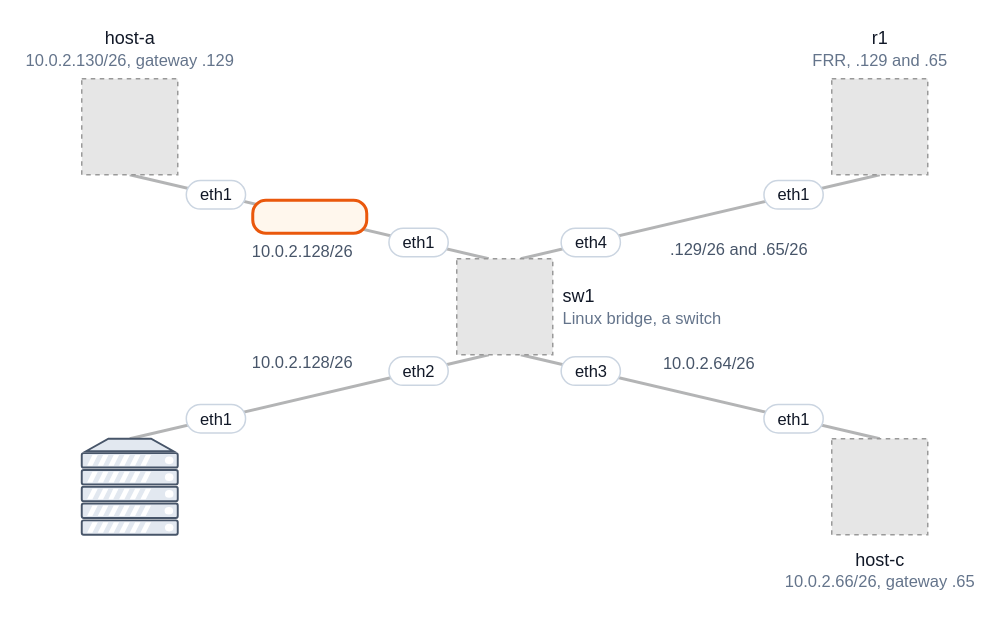
Image size: 1001x621. Some labels were removed from this diagram. Grey dashed boxes stand in for pictures. The shapes that lost their labels are listed below. From the top down, each one's centre as x and y in pixels, then its label:
At point (309, 216): "capture".
At point (129, 486): "host-b 10.0.2.190/26, gateway .129".
